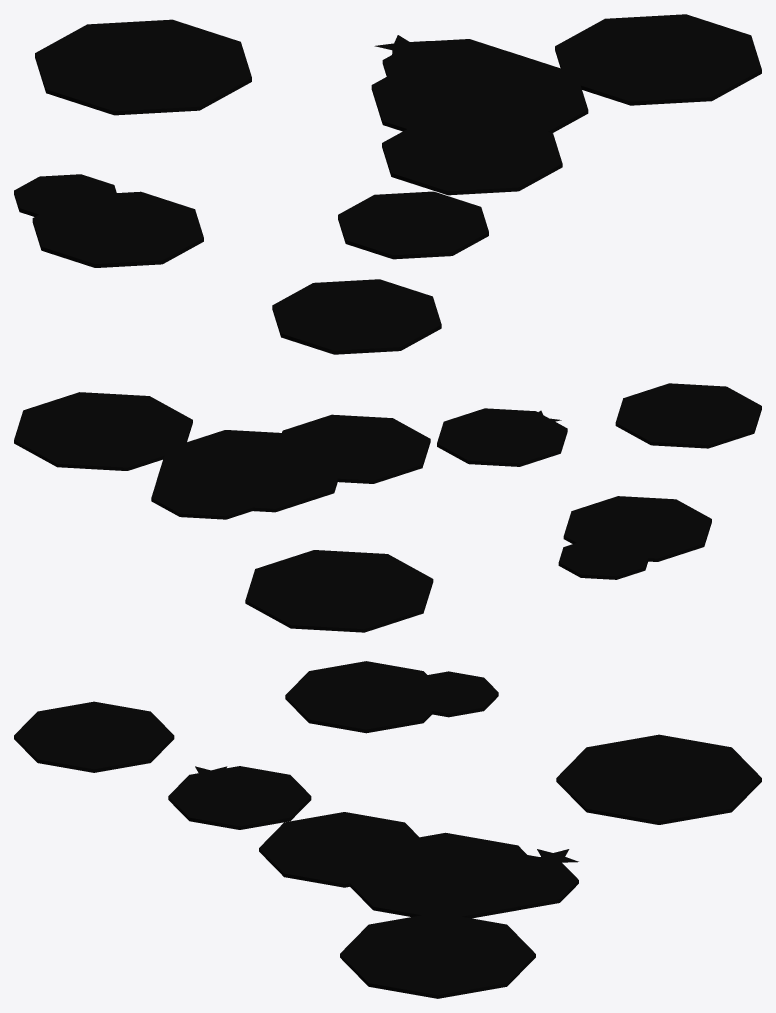
File: SM_lily_pads.fbx
The picture shows the model from 3 angles, top to bottom: view 1: azimuth 30°, elevation 25°; view 2: azimuth 150°, elevation 25°; view 3: azimuth 270°, elevation 25°; orthographic projection. The views are drawn at different scales.
Parts seen in each view (by area): view 1: lily_pads; view 2: lily_pads; view 3: lily_pads.
Part boxes in pixels (x1,y1,x2,y2): lily_pads: [14, 14, 761, 354]; lily_pads: [14, 383, 761, 632]; lily_pads: [14, 661, 761, 998].
Size of the model in its own units: 1.98 by 0.0382 by 1.87.
